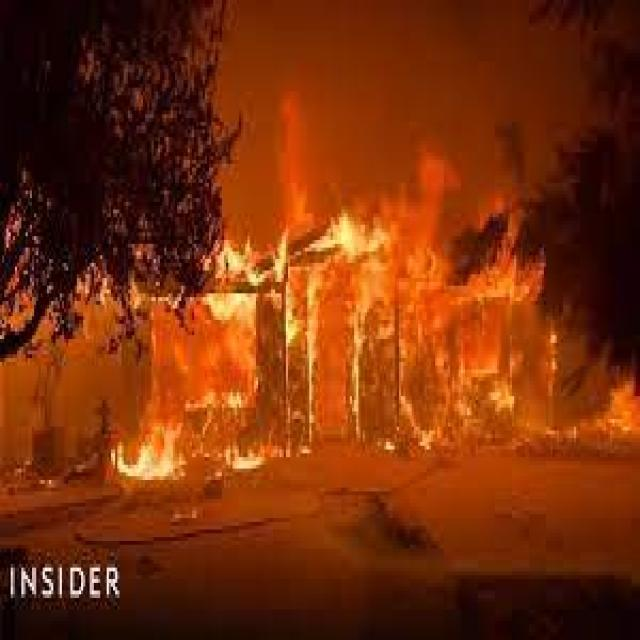Fire: (402, 246, 534, 400), (206, 228, 306, 330), (314, 188, 372, 258), (122, 427, 182, 494)
Smoke: (238, 25, 574, 200)
